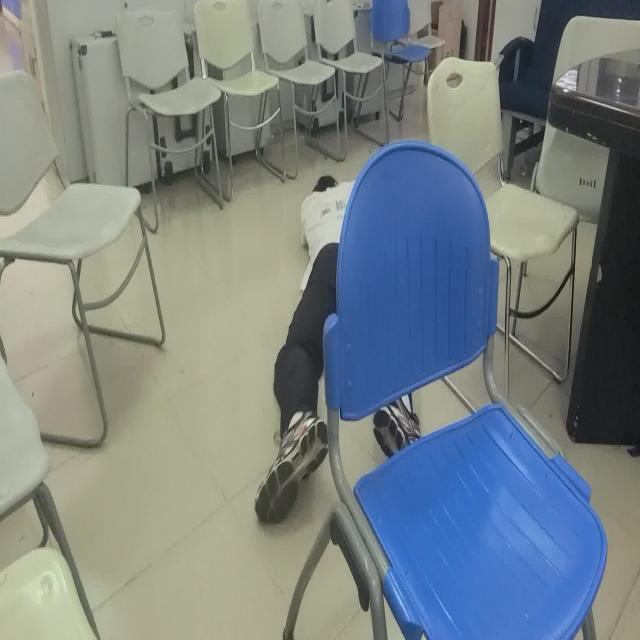Fall-Detected: (252, 169, 422, 527)
